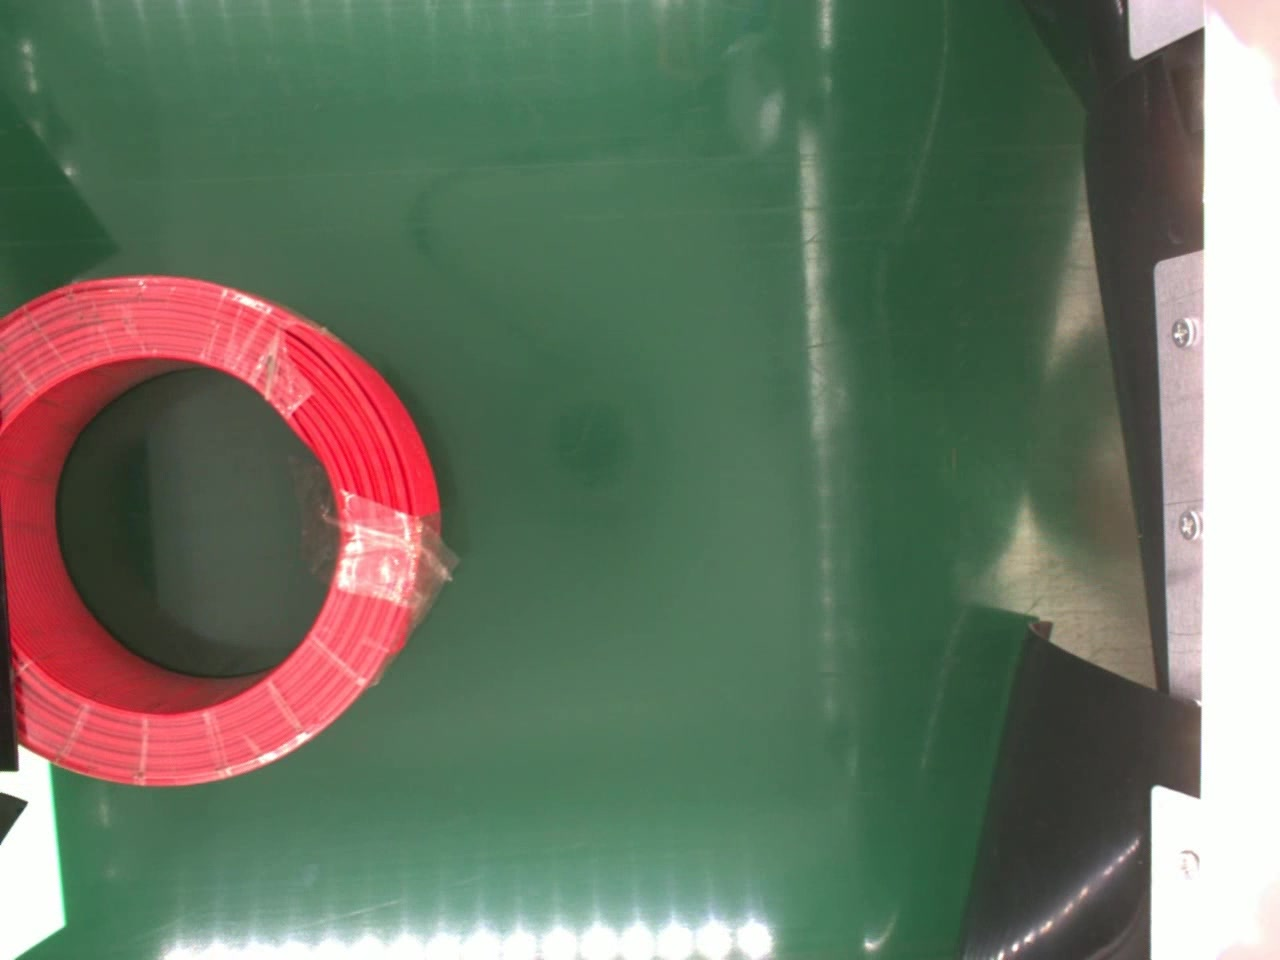red: (0, 268, 447, 791)
